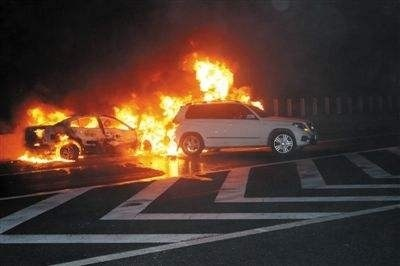fire: (14, 35, 268, 172)
